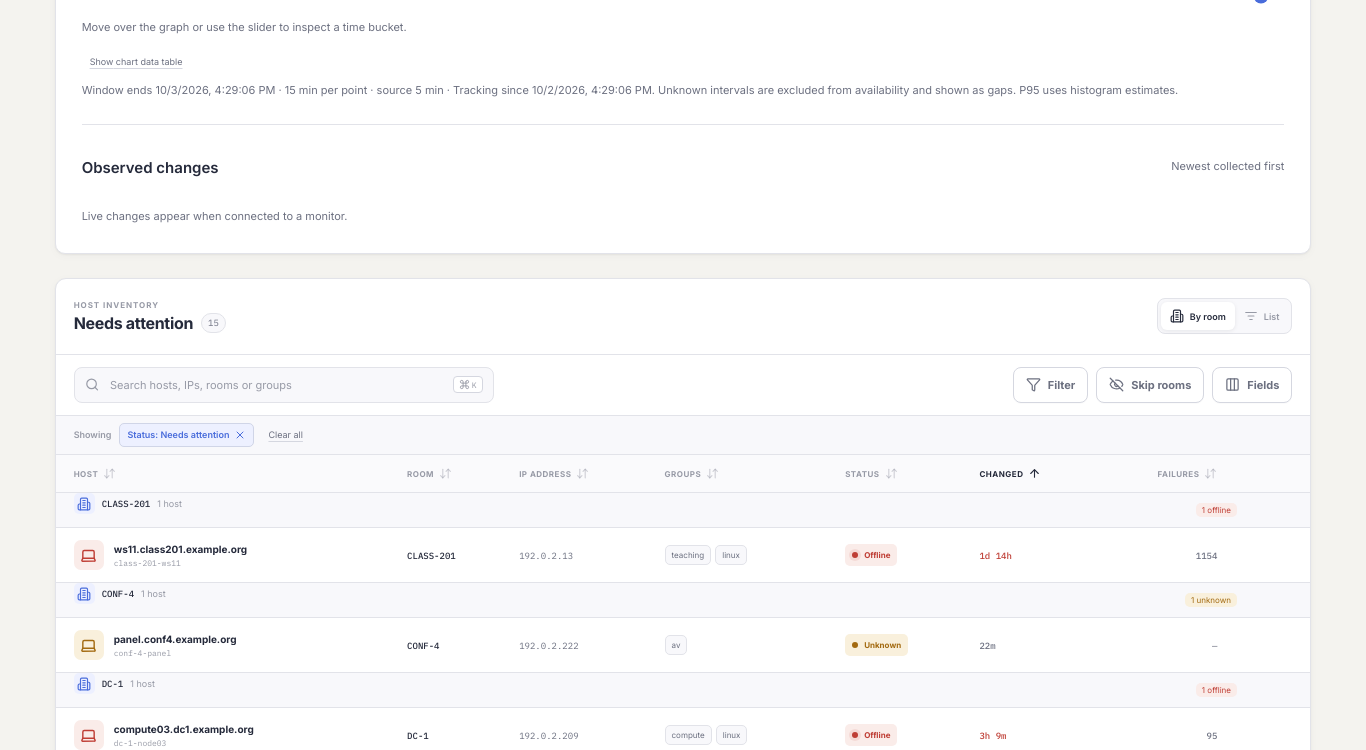
Test: network overview › persists skipped rooms and updates attention counters
The width and height of the screenshot is (1366, 750).
(page scrolled)
What coordinates should you click on to do the following:
click the button "Skip rooms"
I would click on:
 (1150, 385)
Its box is [1096,367,1204,403].
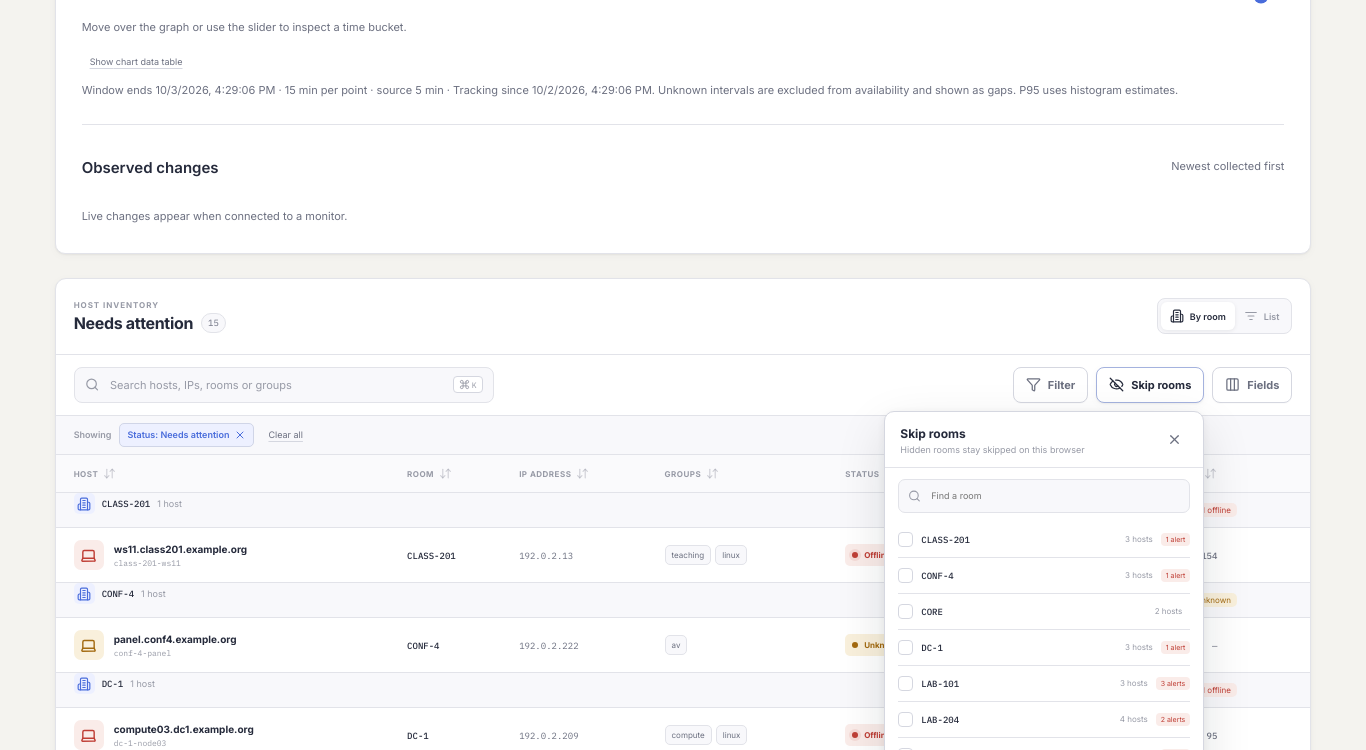
What coordinates should you click on to do the following:
click the checkbox labelled "LAB-204"
I would click on:
 (940, 719)
Its box is [898,702,1190,738].
(page scrolled)
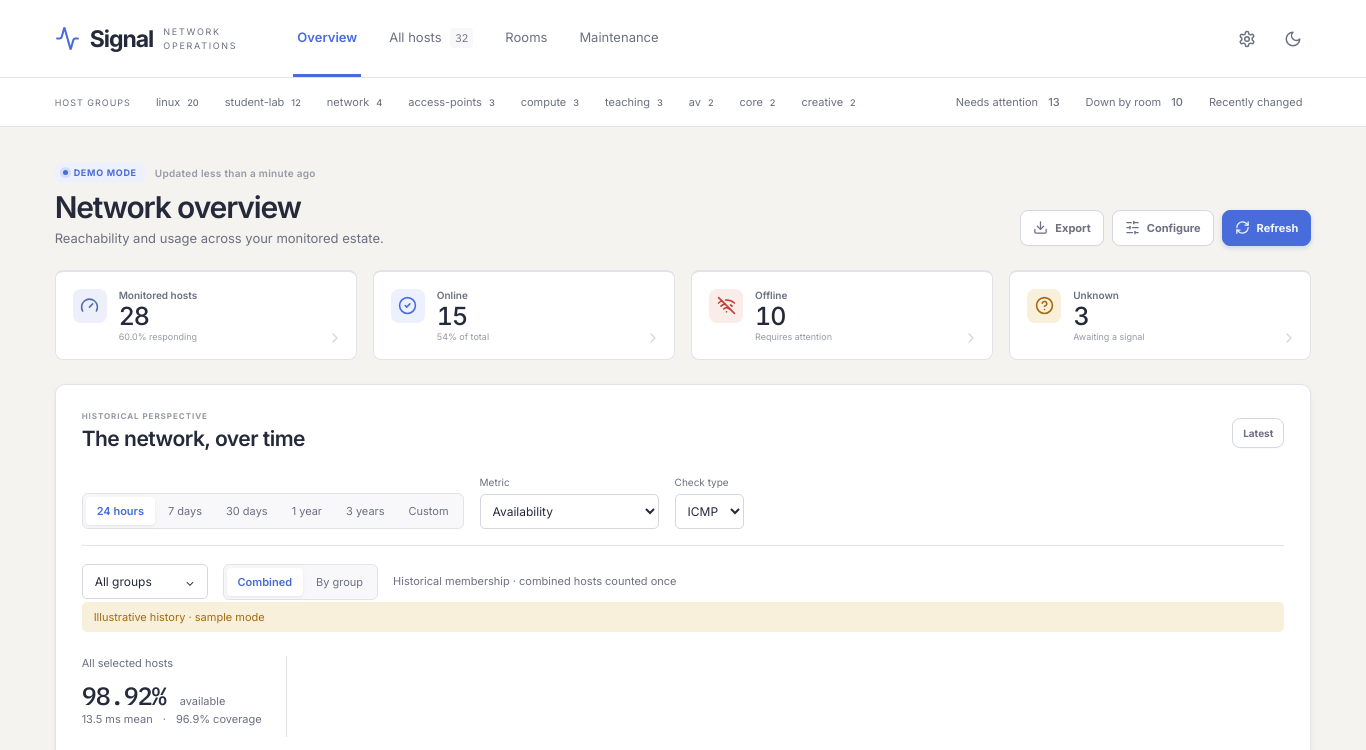
Now the text "13" is shown, box [1048,95,1060,109]
Now the text "10" in the row of "HOST GROUPS" is shown, box [1171,95,1183,109]
Now the text "28" is shown, box [119,301,149,331]
